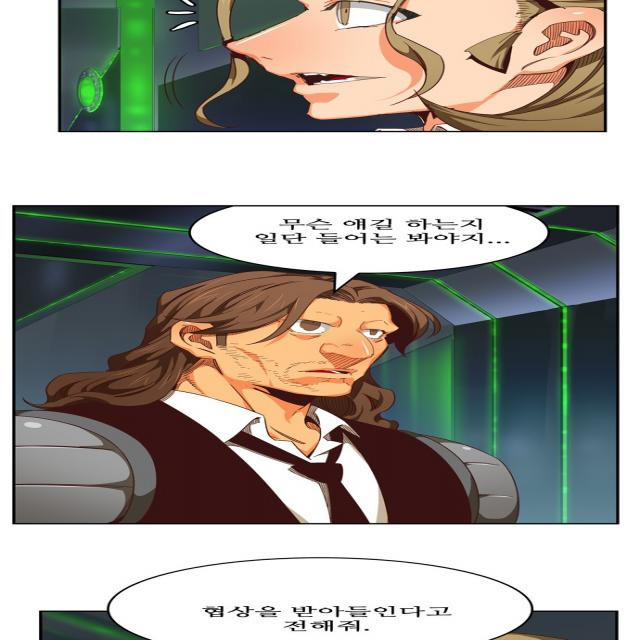Bubble: (107, 556, 532, 640), (193, 203, 550, 272)
